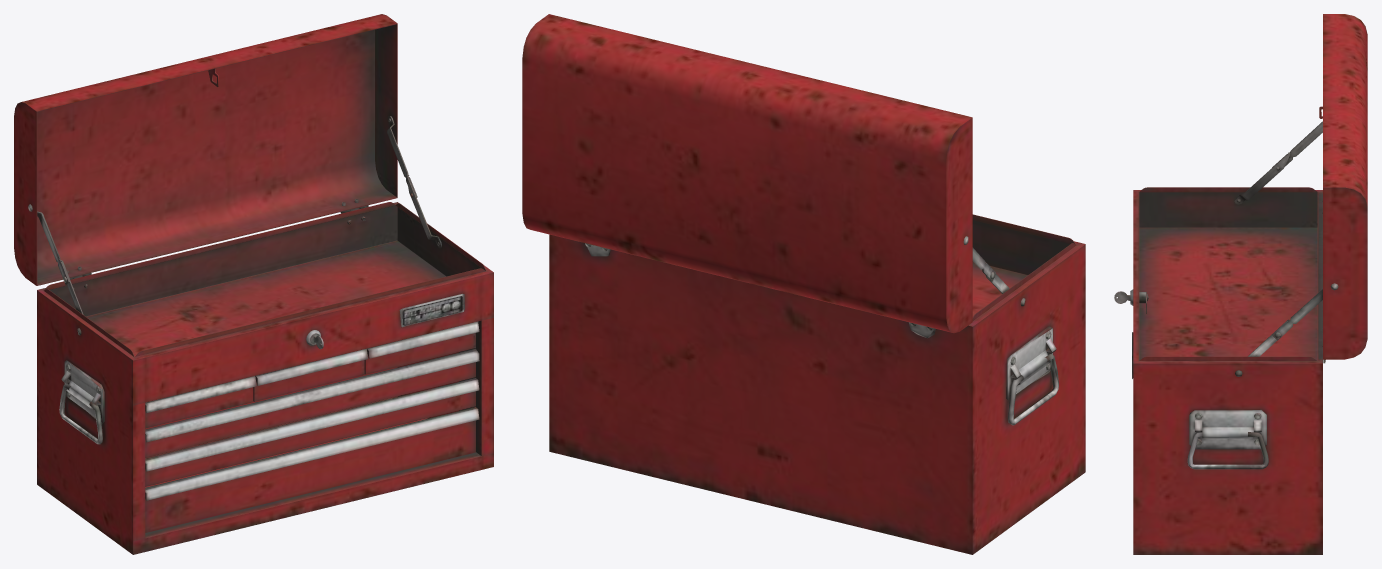
Rendered from metal_tool_chest_1k.gltf.
3 views of the same model, side by side, from view 1: azimuth 30°, elevation 25°; view 2: azimuth 150°, elevation 25°; view 3: azimuth 270°, elevation 25° (orthographic). The views are drawn at different scales.
Parts seen in each view (by area): view 1: metal_tool_chest_chest, metal_tool_chest_lid, metal_tool_chest_hinge_lid, metal_tool_chest_hinge_chest, metal_tool_chest_handle_left; view 2: metal_tool_chest_chest, metal_tool_chest_lid, metal_tool_chest_handle_left; view 3: metal_tool_chest_chest, metal_tool_chest_lid, metal_tool_chest_hinge_lid, metal_tool_chest_hinge_chest, metal_tool_chest_handle_right, metal_tool_chest_lock.
Part boxes in pixels (box(x1,y1,x2,y2)): metal_tool_chest_chest: box(37, 202, 493, 554); metal_tool_chest_lid: box(14, 14, 397, 285); metal_tool_chest_hinge_lid: box(28, 116, 417, 285); metal_tool_chest_hinge_chest: box(59, 175, 441, 335); metal_tool_chest_handle_left: box(59, 383, 102, 444); metal_tool_chest_chest: box(549, 214, 1085, 554); metal_tool_chest_lid: box(522, 14, 972, 333); metal_tool_chest_handle_left: box(1008, 354, 1058, 425); metal_tool_chest_chest: box(1132, 187, 1325, 554); metal_tool_chest_lid: box(1319, 14, 1367, 359); metal_tool_chest_hinge_lid: box(1272, 121, 1338, 340); metal_tool_chest_hinge_chest: box(1234, 152, 1290, 376); metal_tool_chest_handle_right: box(1187, 432, 1268, 469); metal_tool_chest_lock: box(1114, 289, 1148, 313).
Bounding box in the file's own units: 0.6847 × 0.6518 × 0.4072.
1 material, 1 textured.
